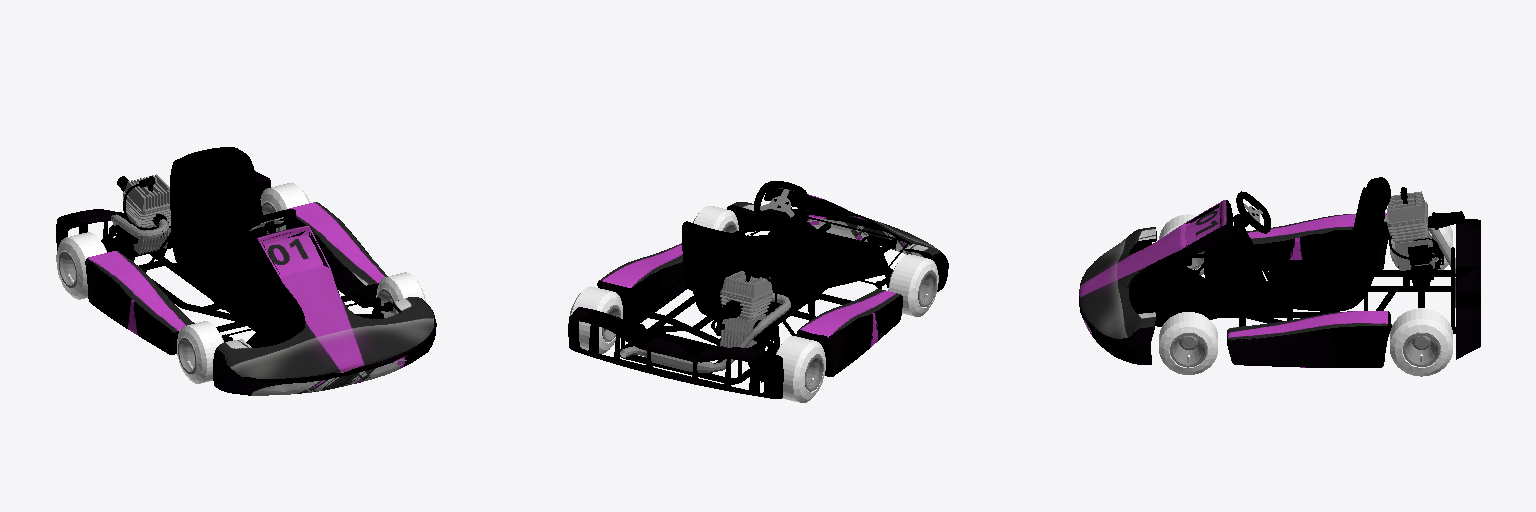
The picture shows the model from 3 angles: view 1: azimuth 30°, elevation 25°; view 2: azimuth 150°, elevation 25°; view 3: azimuth 270°, elevation 25°; orthographic projection.
Visible parts, largest first — view 1: Object.2, Object.1, Object.5, Object.6, Object.9, Object.11, Object.3; view 2: Object.1, Object.2, Object.5, Object.6, Object.9, Object.3, Object.11; view 3: Object.2, Object.1, Object.6, Object.5, Object.11, Object.7, Object.12, Object.3.
Boxes of the visible parts, x1=… form: Object.2: x1=56, y1=171, x2=436, y2=395; Object.1: x1=79, y1=147, x2=392, y2=347; Object.5: x1=111, y1=174, x2=170, y2=254; Object.6: x1=56, y1=183, x2=309, y2=299; Object.9: x1=177, y1=321, x2=223, y2=383; Object.11: x1=376, y1=272, x2=425, y2=313; Object.3: x1=242, y1=209, x2=295, y2=234; Object.1: x1=588, y1=199, x2=907, y2=392; Object.2: x1=568, y1=188, x2=948, y2=398; Object.5: x1=620, y1=271, x2=790, y2=372; Object.6: x1=568, y1=286, x2=825, y2=402; Object.9: x1=888, y1=254, x2=938, y2=316; Object.3: x1=754, y1=181, x2=807, y2=224; Object.11: x1=693, y1=206, x2=738, y2=230; Object.2: x1=1079, y1=200, x2=1480, y2=367; Object.1: x1=1130, y1=177, x2=1464, y2=333; Object.6: x1=1390, y1=210, x2=1452, y2=376; Object.5: x1=1384, y1=191, x2=1455, y2=307; Object.11: x1=1159, y1=312, x2=1217, y2=374; Object.7: x1=1403, y1=333, x2=1439, y2=366; Object.12: x1=1170, y1=334, x2=1206, y2=367; Object.3: x1=1236, y1=191, x2=1270, y2=233.
Size of the model in its own units: 1652 by 887 by 2448.
Materials: 5 (2 with a texture image).